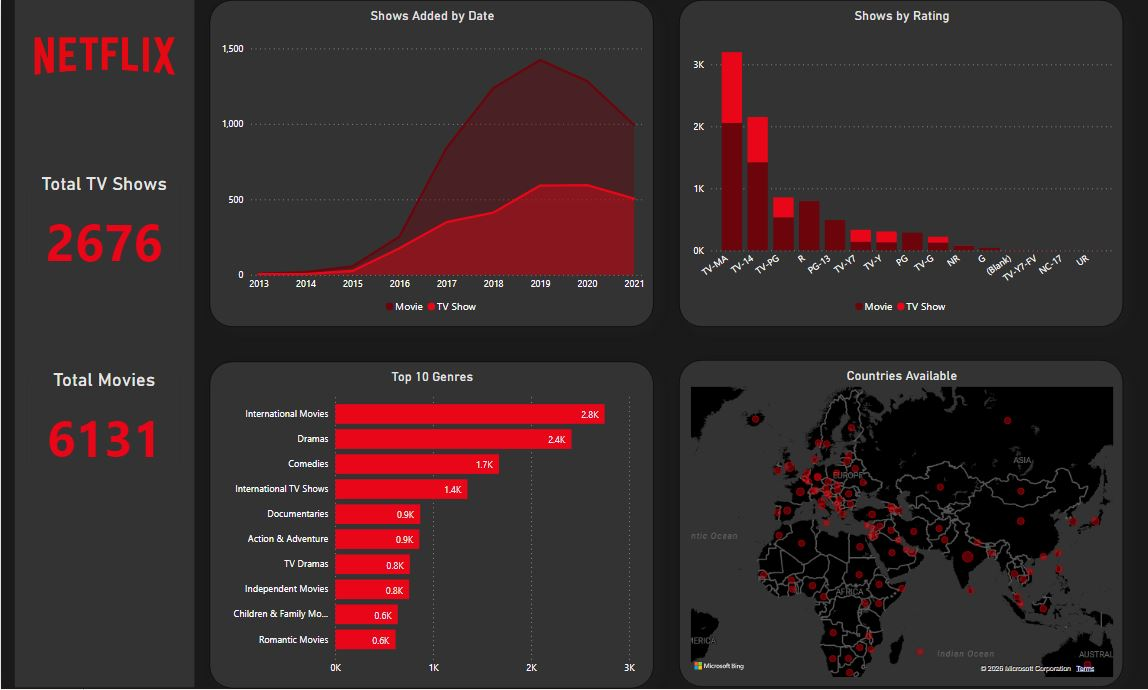

The page's visual inventory and layout, read from the dashboard file:
{"tool":"powerbi","page":{"name":"Overview","canvas":[1500,900],"ordinal":0},"visuals":[{"type":"shape","box":[18.3,0,235.5,898.6],"z":0},{"type":"areaChart","title":"Shows Added by Date","fields":{"Y":["CountNonNull(netflix_data netflix_titles.show_id)"],"Category":["netflix_data netflix_titles.date_added.Variation.Date Hierarchy.Year"],"Series":["netflix_data netflix_titles.type"]},"box":[272.1,0,580.8,427.6],"z":1000},{"type":"columnChart","title":"Shows by Rating","fields":{"Category":["netflix_data netflix_titles.rating"],"Y":["CountNonNull(netflix_data netflix_titles.show_id)"],"Series":["netflix_data netflix_titles.type"]},"box":[887.2,0,580.8,427.6],"z":2000},{"type":"clusteredBarChart","title":"Top 10 Genres","fields":{"Category":["netflix_data netflix_listed_in.category"],"Y":["CountNonNull(netflix_data netflix_listed_in.show_id)"]},"box":[272.1,473.3,580.8,427.6],"z":3000},{"type":"map","title":"Countries Available","fields":{"Category":["netflix_data countries_released.country"],"Size":["CountNonNull(netflix_data countries_released.show_id)"]},"box":[887.2,471,580.8,427.6],"z":4000},{"type":"image","box":[18.3,0,235.5,139.5],"z":5000},{"type":"card","title":"Total TV Shows","fields":{"Values":["CountNonNull(netflix_data netflix_titles.show_id)"]},"box":[34.3,214.9,201.2,162.3],"z":6000},{"type":"card","title":"Total Movies","fields":{"Values":["CountNonNull(netflix_data netflix_titles.show_id)"]},"box":[34.3,473.3,201.2,162.3],"z":7000}]}

Visuals, with their boxes in screenshot pixels (x1, y1, x2, y2), scaled from the page's 1500x900 canvas onto the 1148x690 screenshot:
shape: bbox=(14, 0, 194, 689)
"Shows Added by Date" areaChart: bbox=(208, 0, 653, 328)
"Shows by Rating" columnChart: bbox=(679, 0, 1124, 328)
"Top 10 Genres" clusteredBarChart: bbox=(208, 363, 653, 689)
"Countries Available" map: bbox=(679, 361, 1124, 689)
image: bbox=(14, 0, 194, 107)
"Total TV Shows" card: bbox=(26, 165, 180, 289)
"Total Movies" card: bbox=(26, 363, 180, 487)
